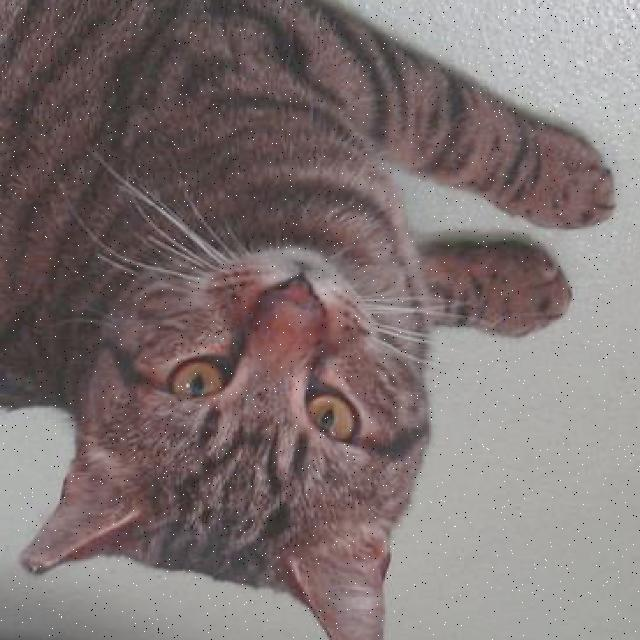Cat: (18, 229, 422, 640)
